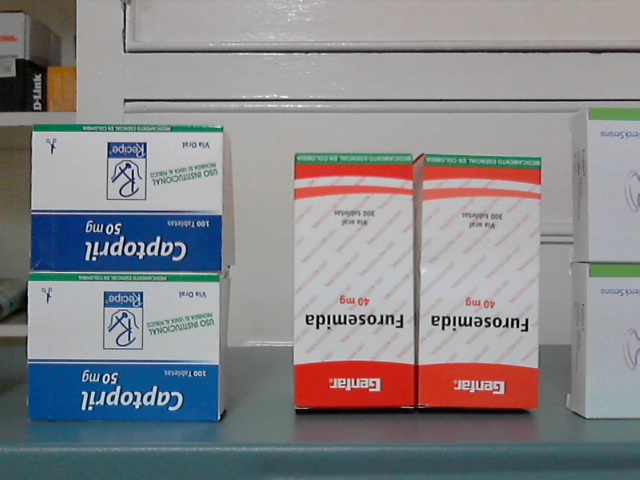Genfar: (293, 153, 414, 408), (423, 153, 539, 410)
